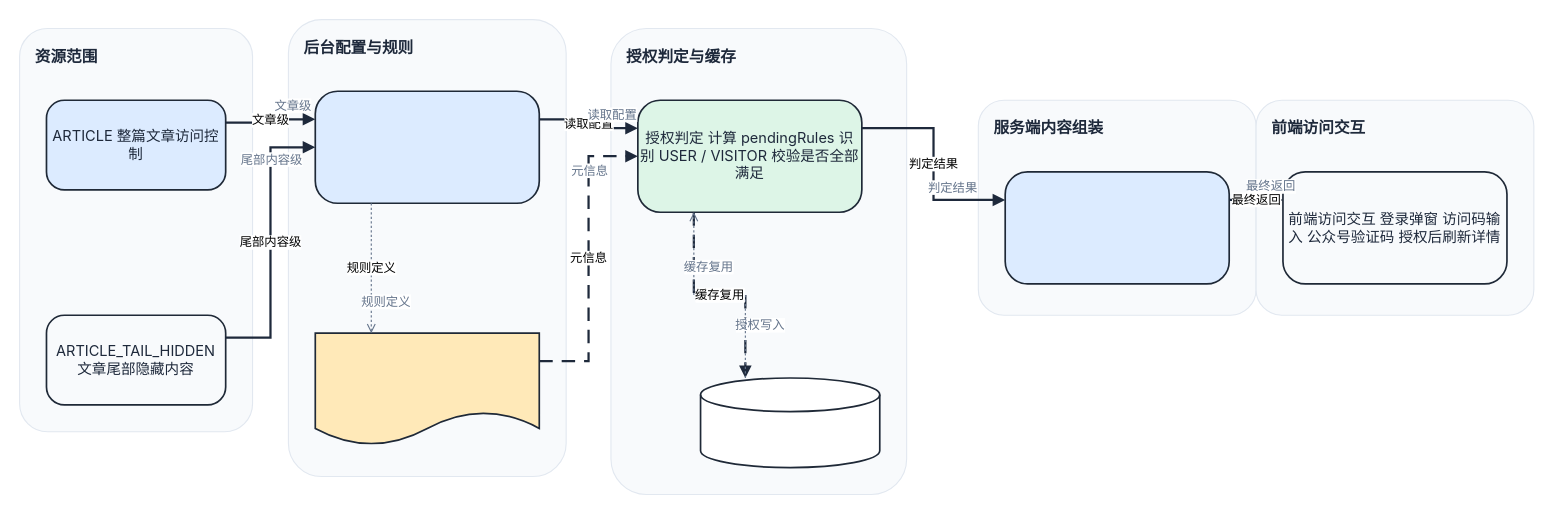
Image size: 1553x514. Some labels were removed from this diagram. The shapes that lost their labels are listed below. From the top down, each one's centre as x and y in pixels, then its label:
At point 427,147: "后台配置 规则多选 scope 开关 文案配置".
At point 1117,227: "服务端组装 决定是否返回正文 决定是否返回尾部内容 输出 accessState / pendingRules".
At point 427,389: "规则元信息 LOGIN / ACCESS_CODE WECHAT_ACCESS_CODE AND 组合".
At point 789,422: "content_access_grant 7 天临时授权缓存 同文章规则复用".
